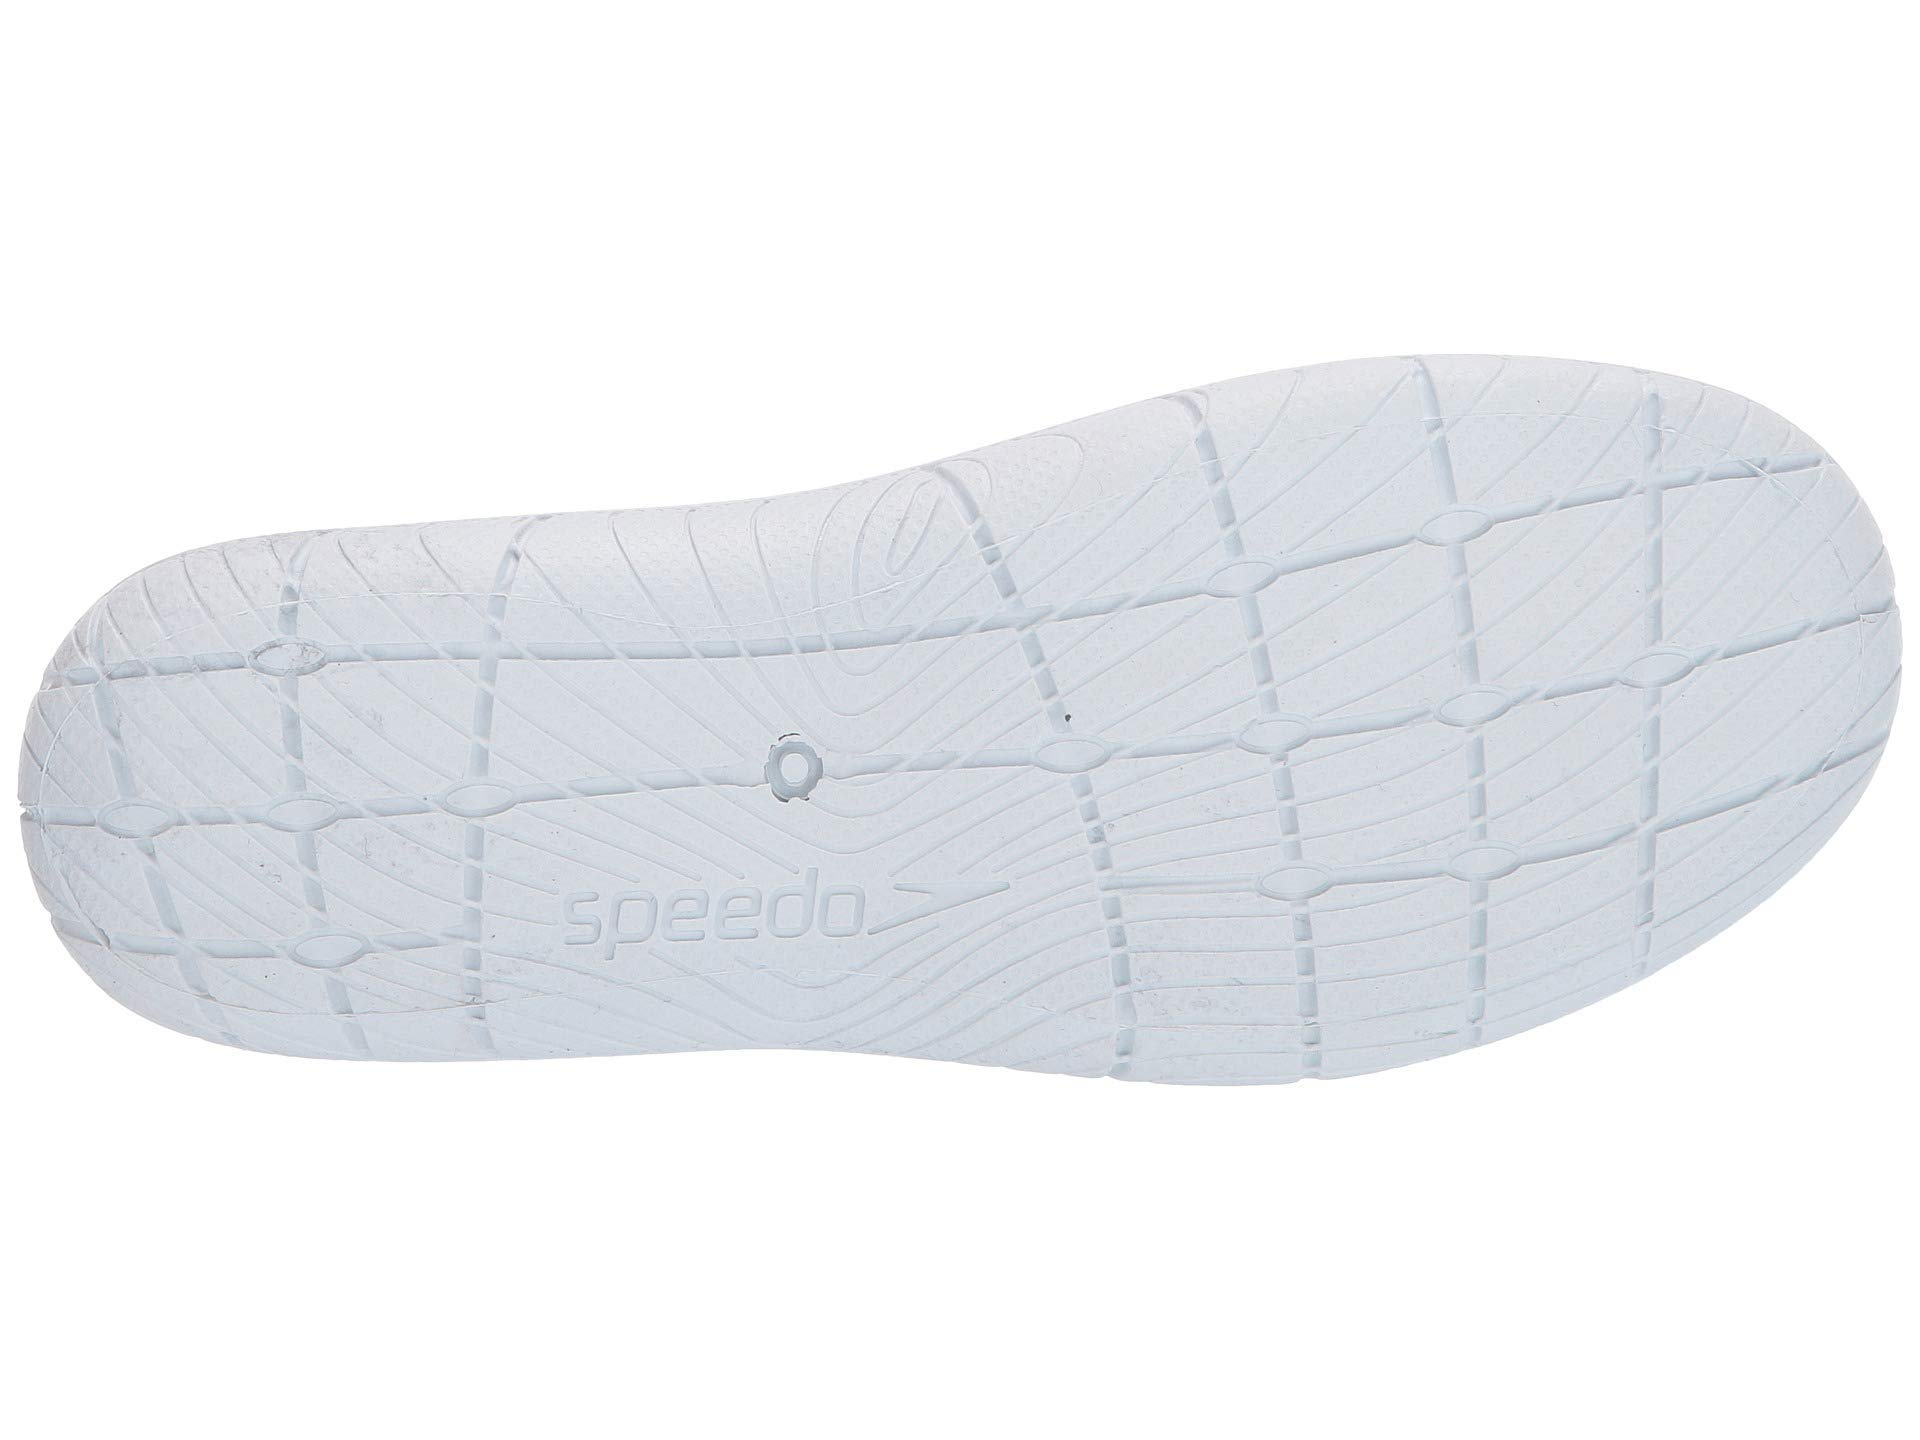circle: (1126, 405, 1649, 951), (163, 591, 466, 989), (537, 867, 887, 971), (748, 718, 835, 820)
line: (1126, 405, 1649, 951), (163, 591, 466, 989), (537, 867, 887, 971), (571, 511, 887, 616), (748, 718, 835, 820)
quad: (1126, 405, 1649, 951), (163, 591, 466, 989)
text: (537, 867, 887, 971)
